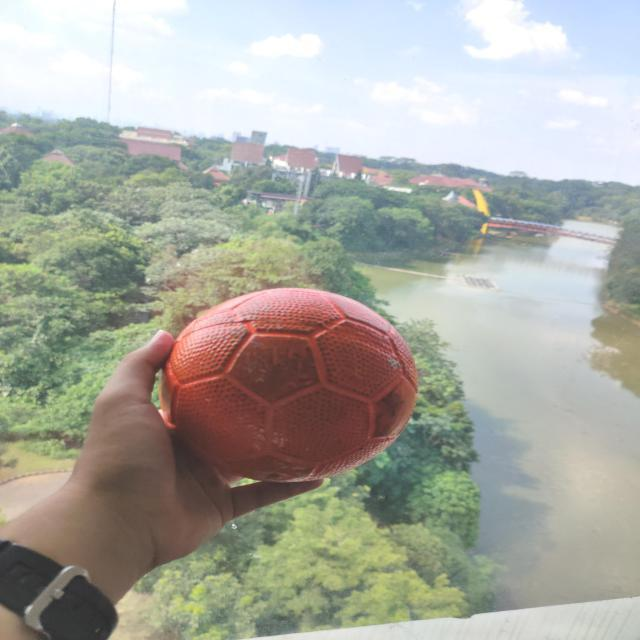bola: (153, 283, 424, 489)
